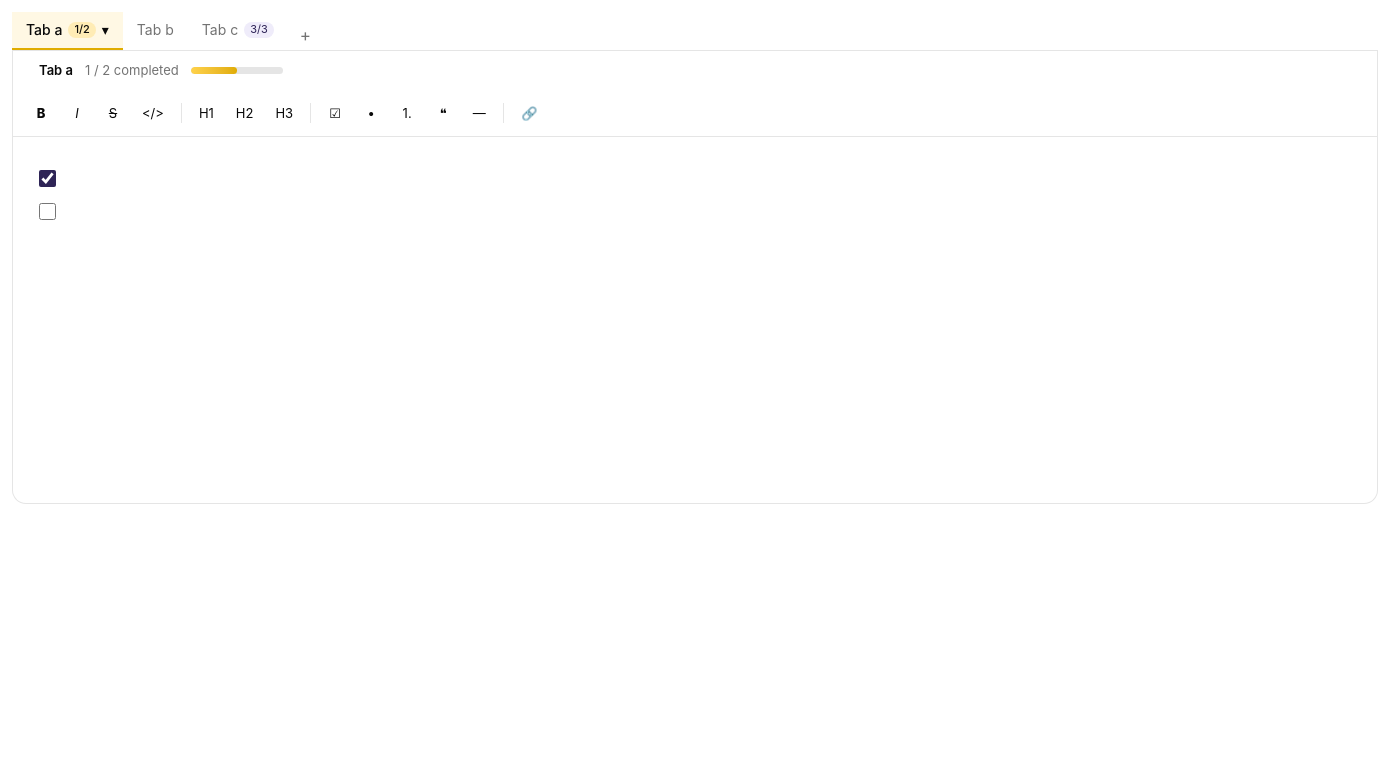
moving a tab › clears a refusal once a later write succeeds
The image size is (1378, 780).
Click the tab "Tab a 1/2 ▾" at point(67, 31), box [12, 12, 123, 50]
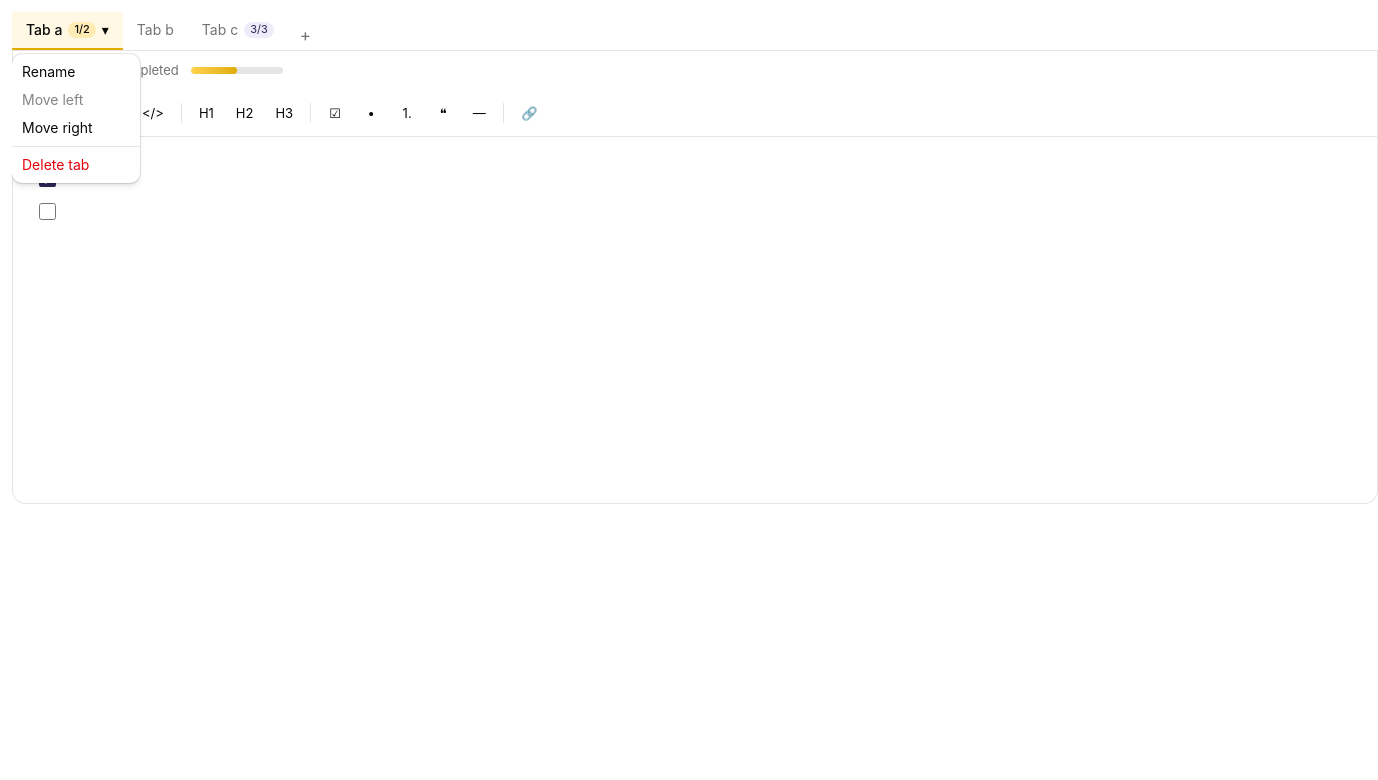
Click the menu item "Move right" at point(57, 128), box [22, 119, 93, 136]
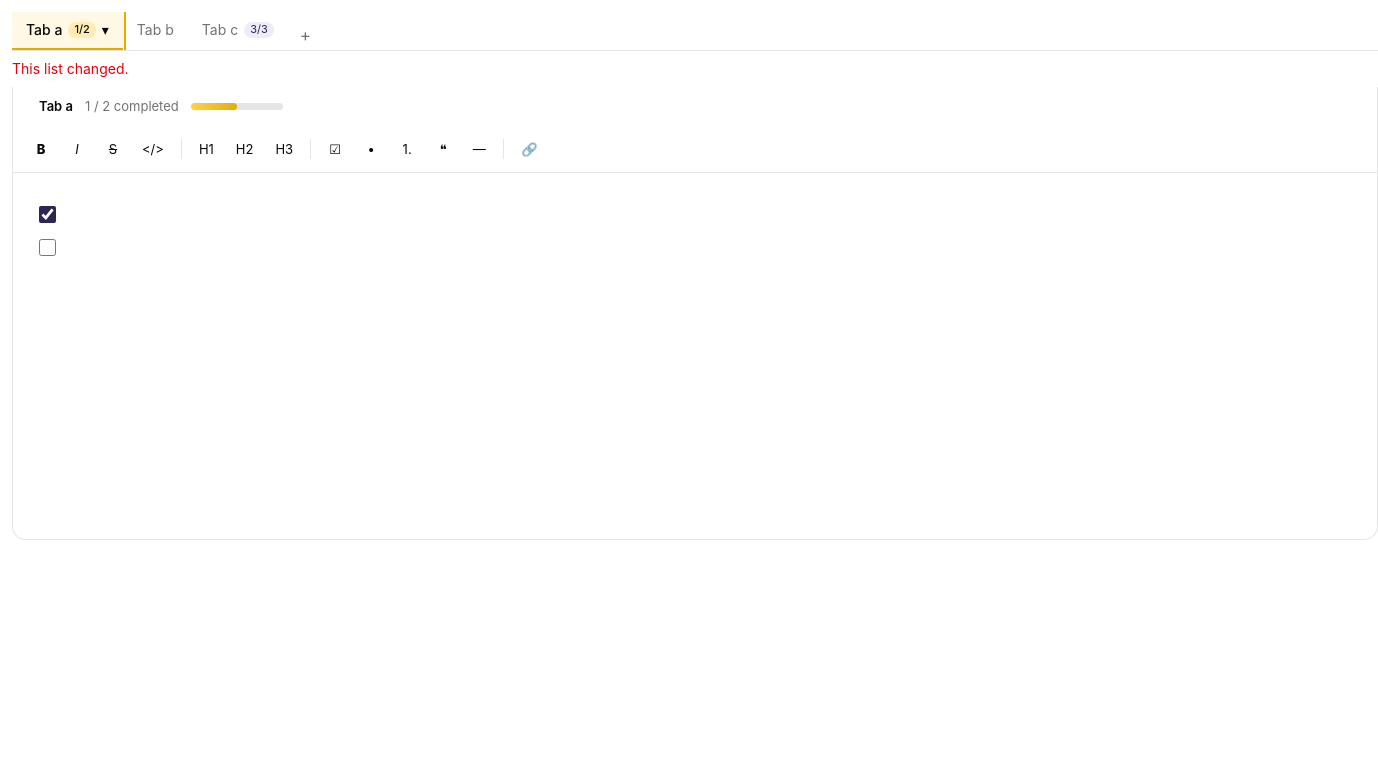
Expected: the message reads "This list changed.", [12, 60, 128, 77]
Click the tab "Tab a 1/2 ▾" at point(67, 31), box [12, 12, 123, 50]
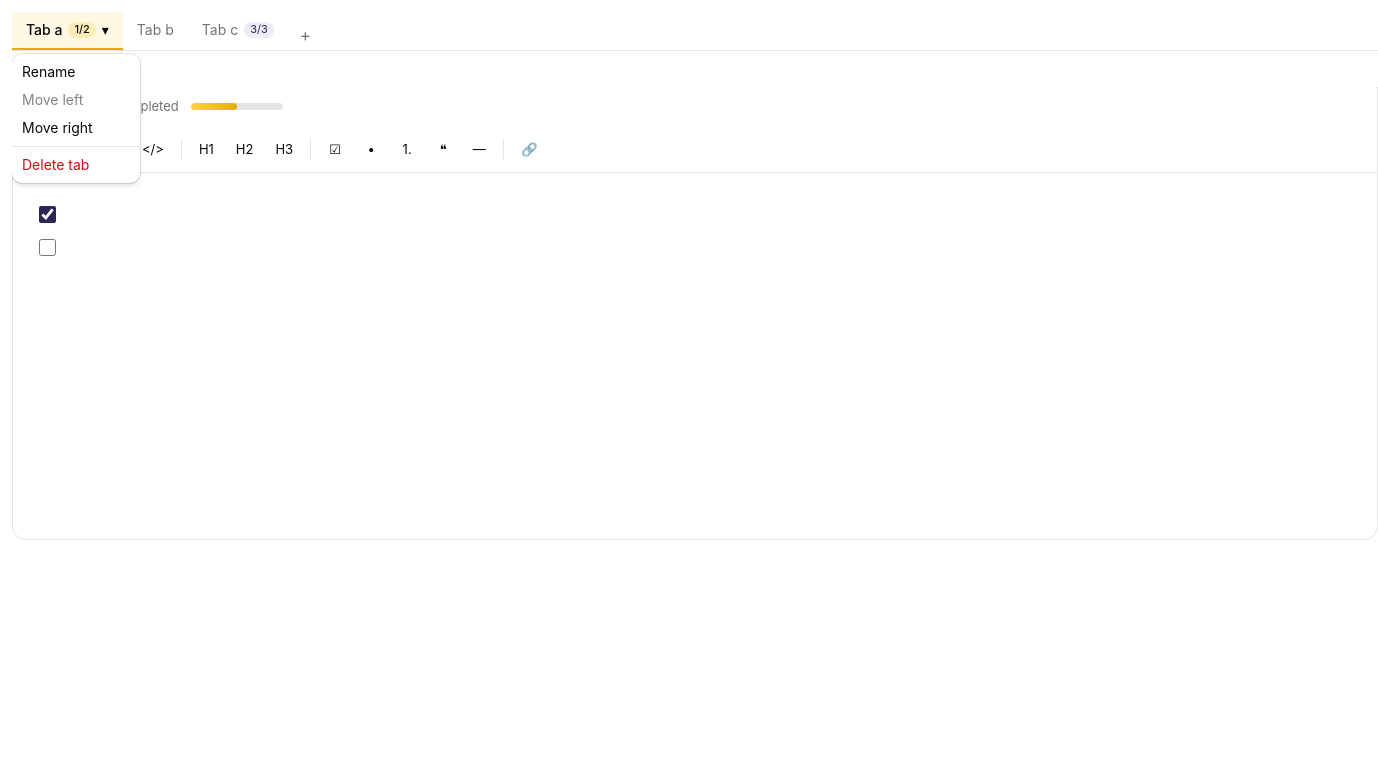
Click the menu item "Move right" at point(57, 128), box [22, 119, 93, 136]
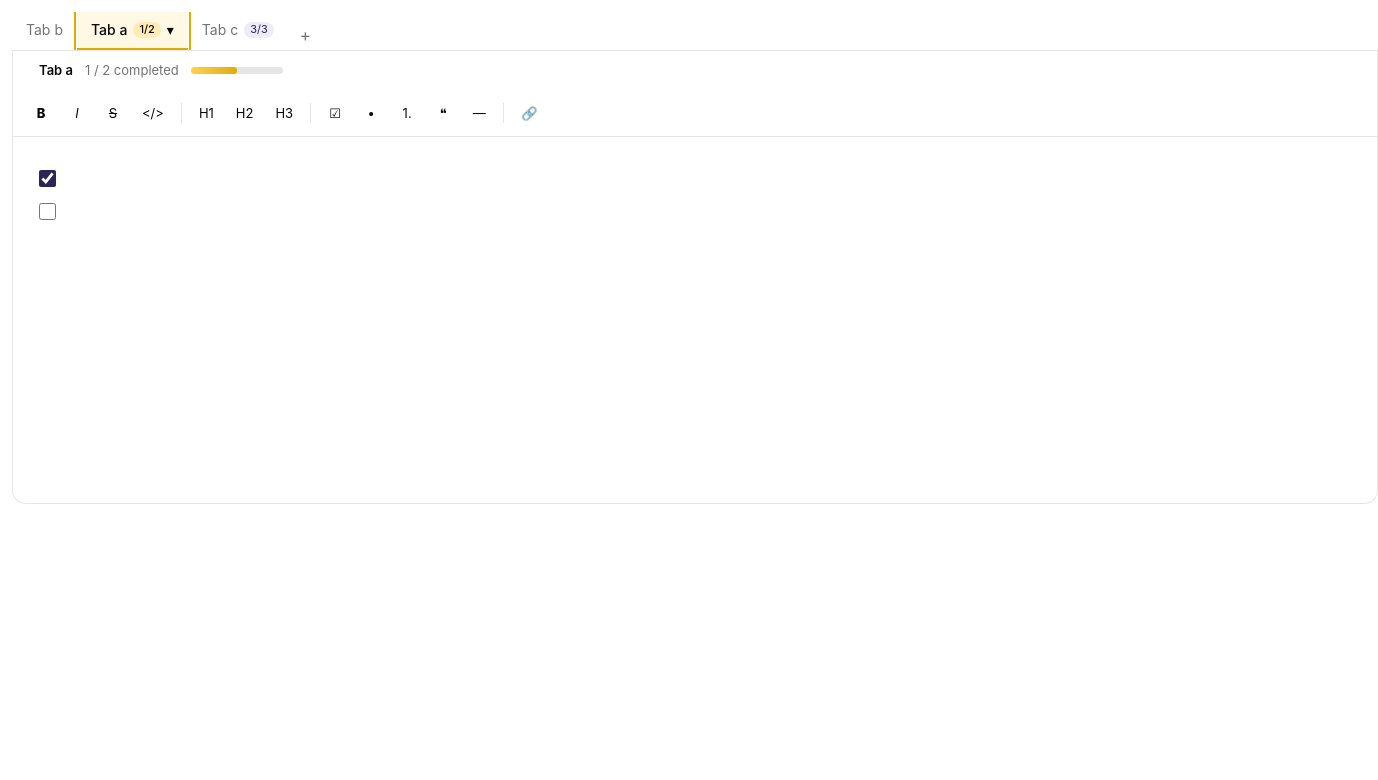
Expected: the message "This list changed." is gone
